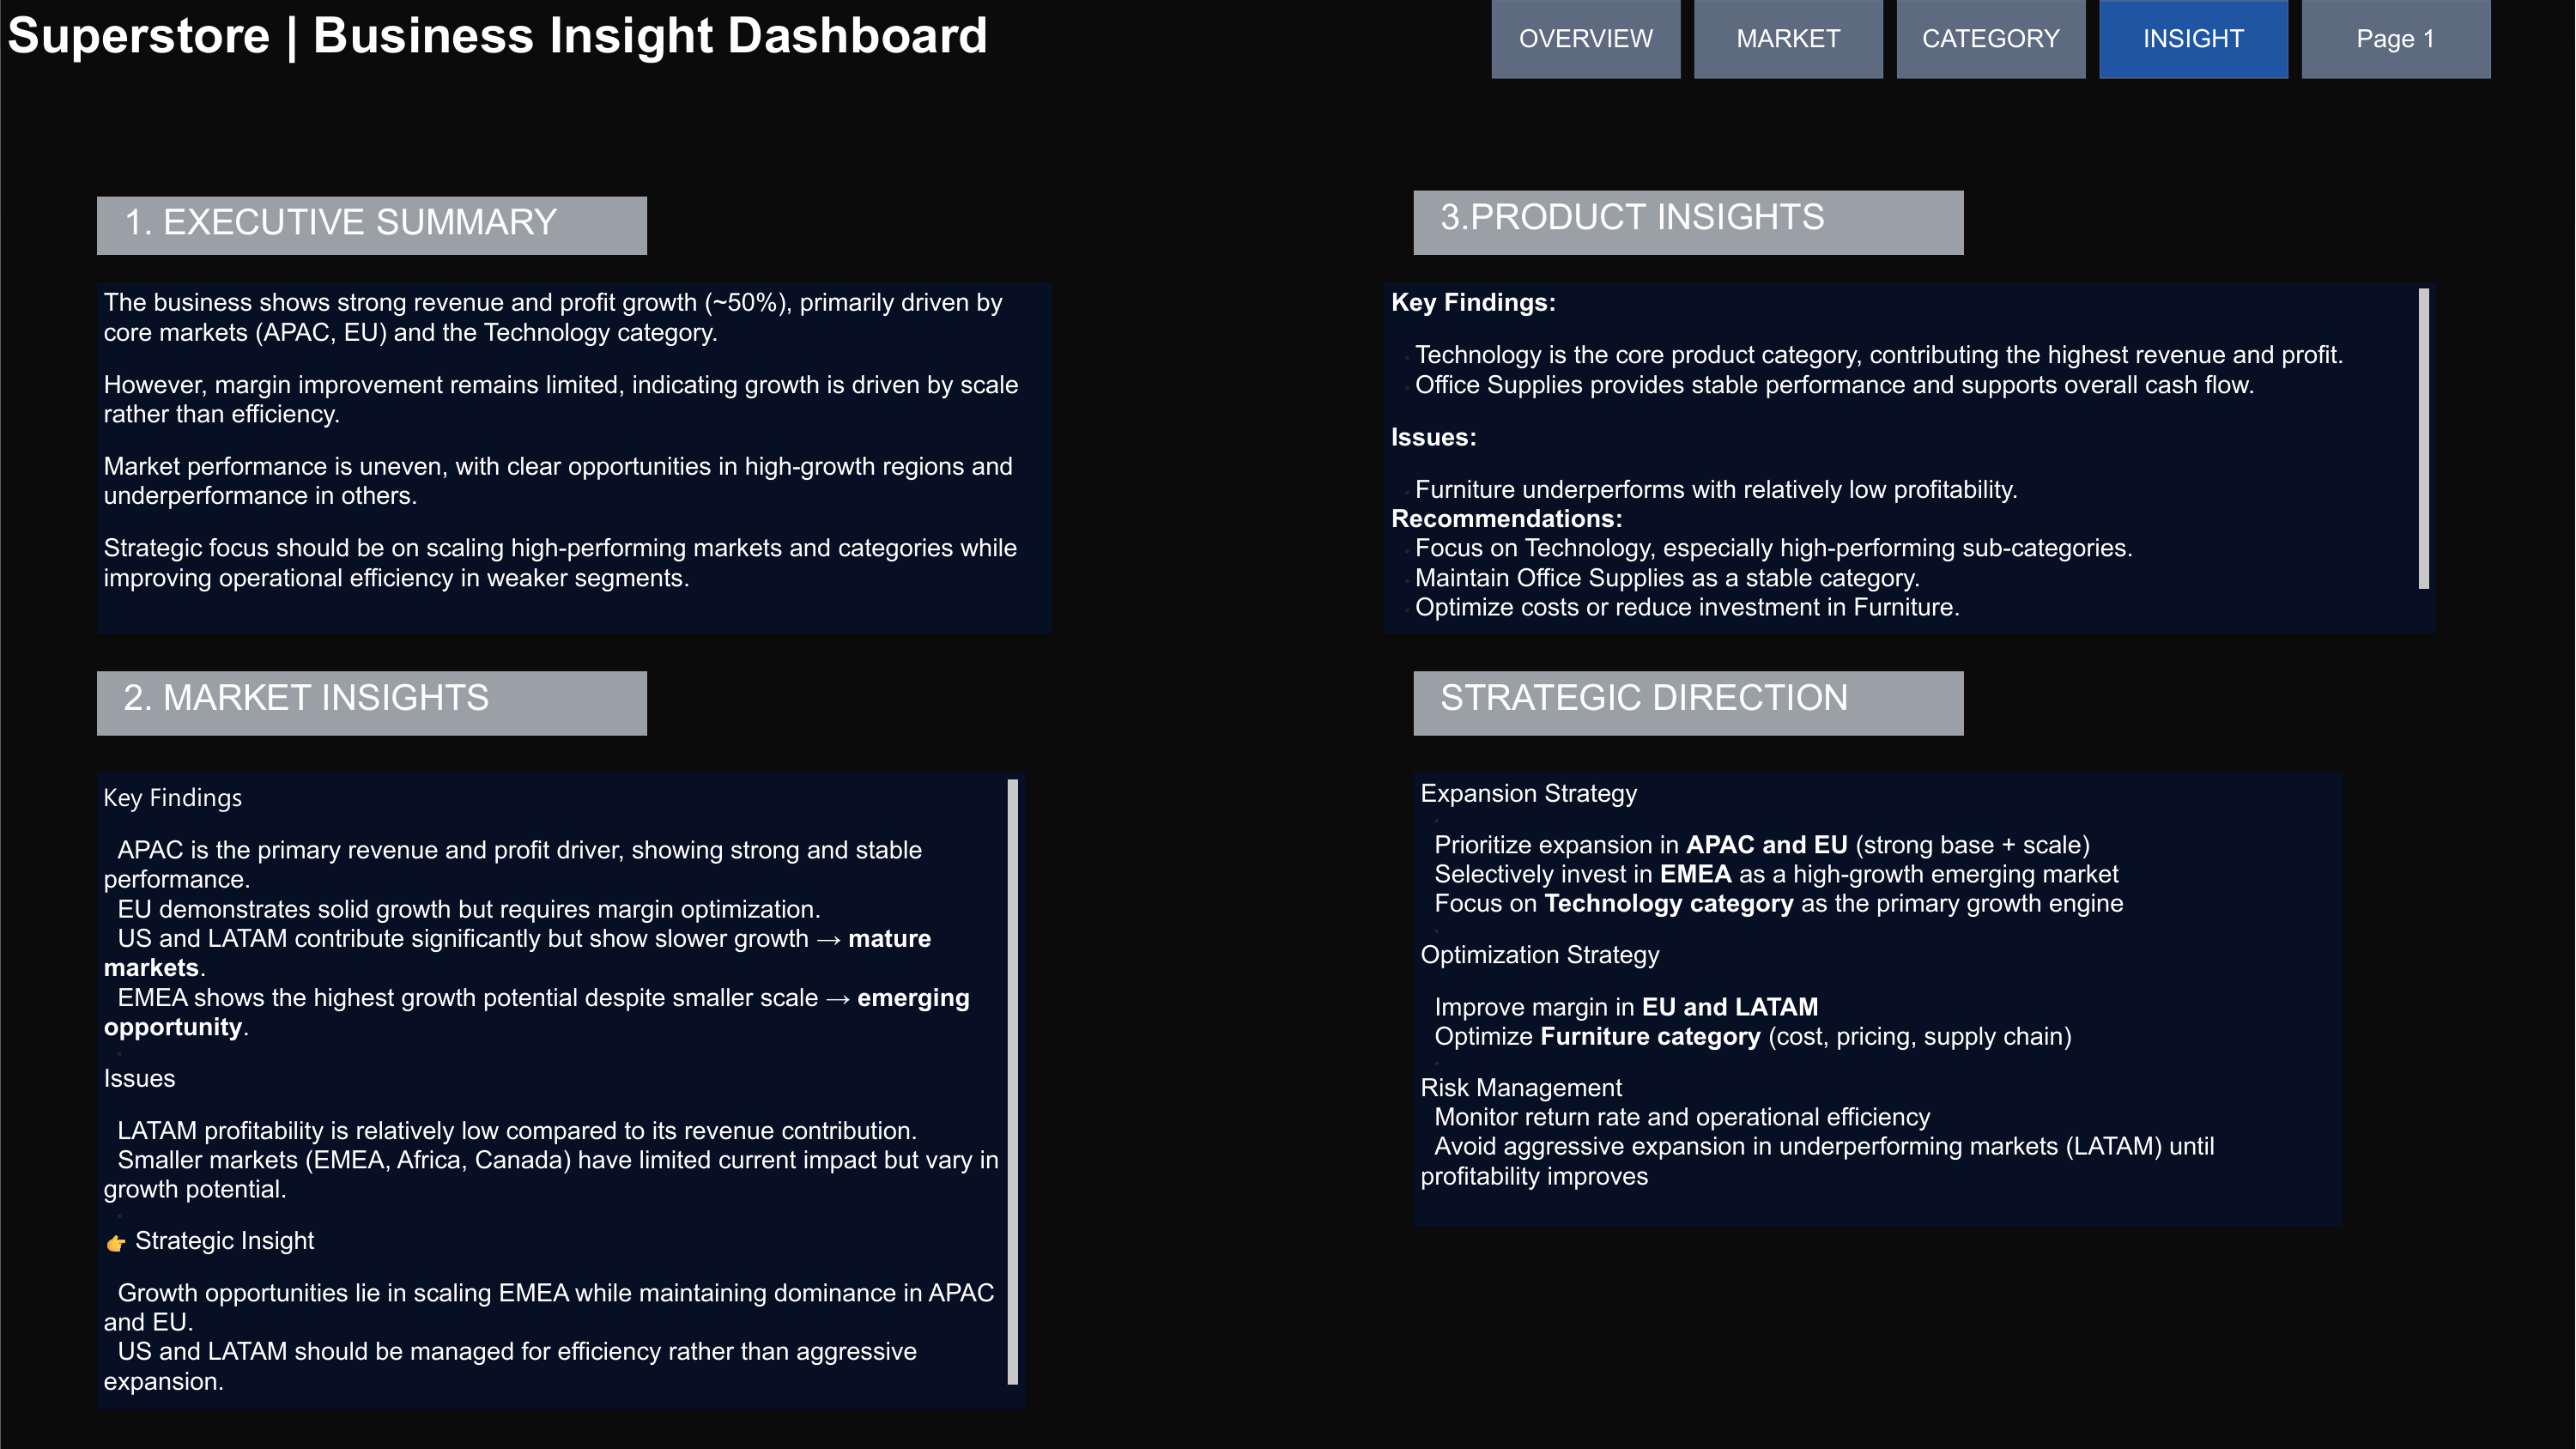

The page's visual inventory and layout, read from the dashboard file:
{"tool":"powerbi","page":{"name":"INSIGHT","canvas":[1920,1080],"ordinal":3},"visuals":[{"type":"textbox","box":[0,0,814,58],"z":1000},{"type":"pageNavigator","box":[1112,0,748,58],"z":2000},{"type":"textbox","box":[72,146,410,44],"z":3000},{"type":"textbox","box":[72,210,712,262],"z":4000},{"type":"textbox","box":[72,500,410,48],"z":5000},{"type":"textbox","box":[72,576,692,474],"z":6000},{"type":"textbox","box":[1054,142,410,48],"z":7000},{"type":"textbox","box":[1032,210,784,262],"z":8000},{"type":"textbox","box":[1054,500,410,48],"z":9000},{"type":"textbox","box":[1054,576,692,338],"z":10000}]}

Visuals, with their boxes in screenshot pixels (x1, y1, x2, y2), scaled from the page's 1920x1080 canvas onto the 2576x1449 screenshot:
textbox: detection(0, 0, 1092, 78)
pageNavigator: detection(1492, 0, 2495, 78)
textbox: detection(97, 196, 646, 255)
textbox: detection(97, 282, 1052, 634)
textbox: detection(97, 670, 646, 736)
textbox: detection(97, 773, 1025, 1409)
textbox: detection(1414, 191, 1964, 255)
textbox: detection(1385, 282, 2436, 634)
textbox: detection(1414, 670, 1964, 736)
textbox: detection(1414, 773, 2343, 1227)
